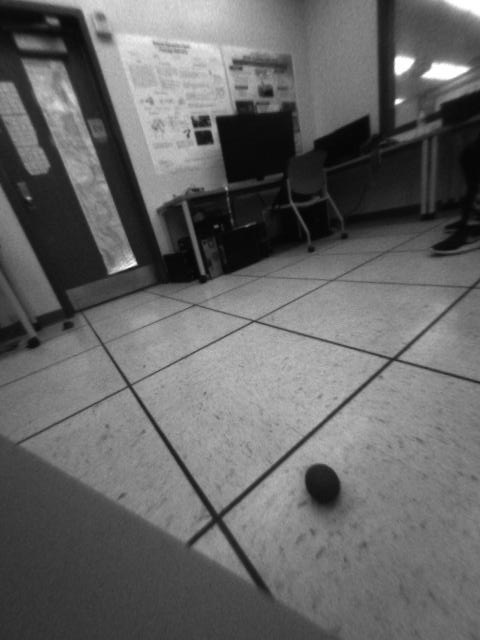dogtoy: (296, 459, 353, 514)
